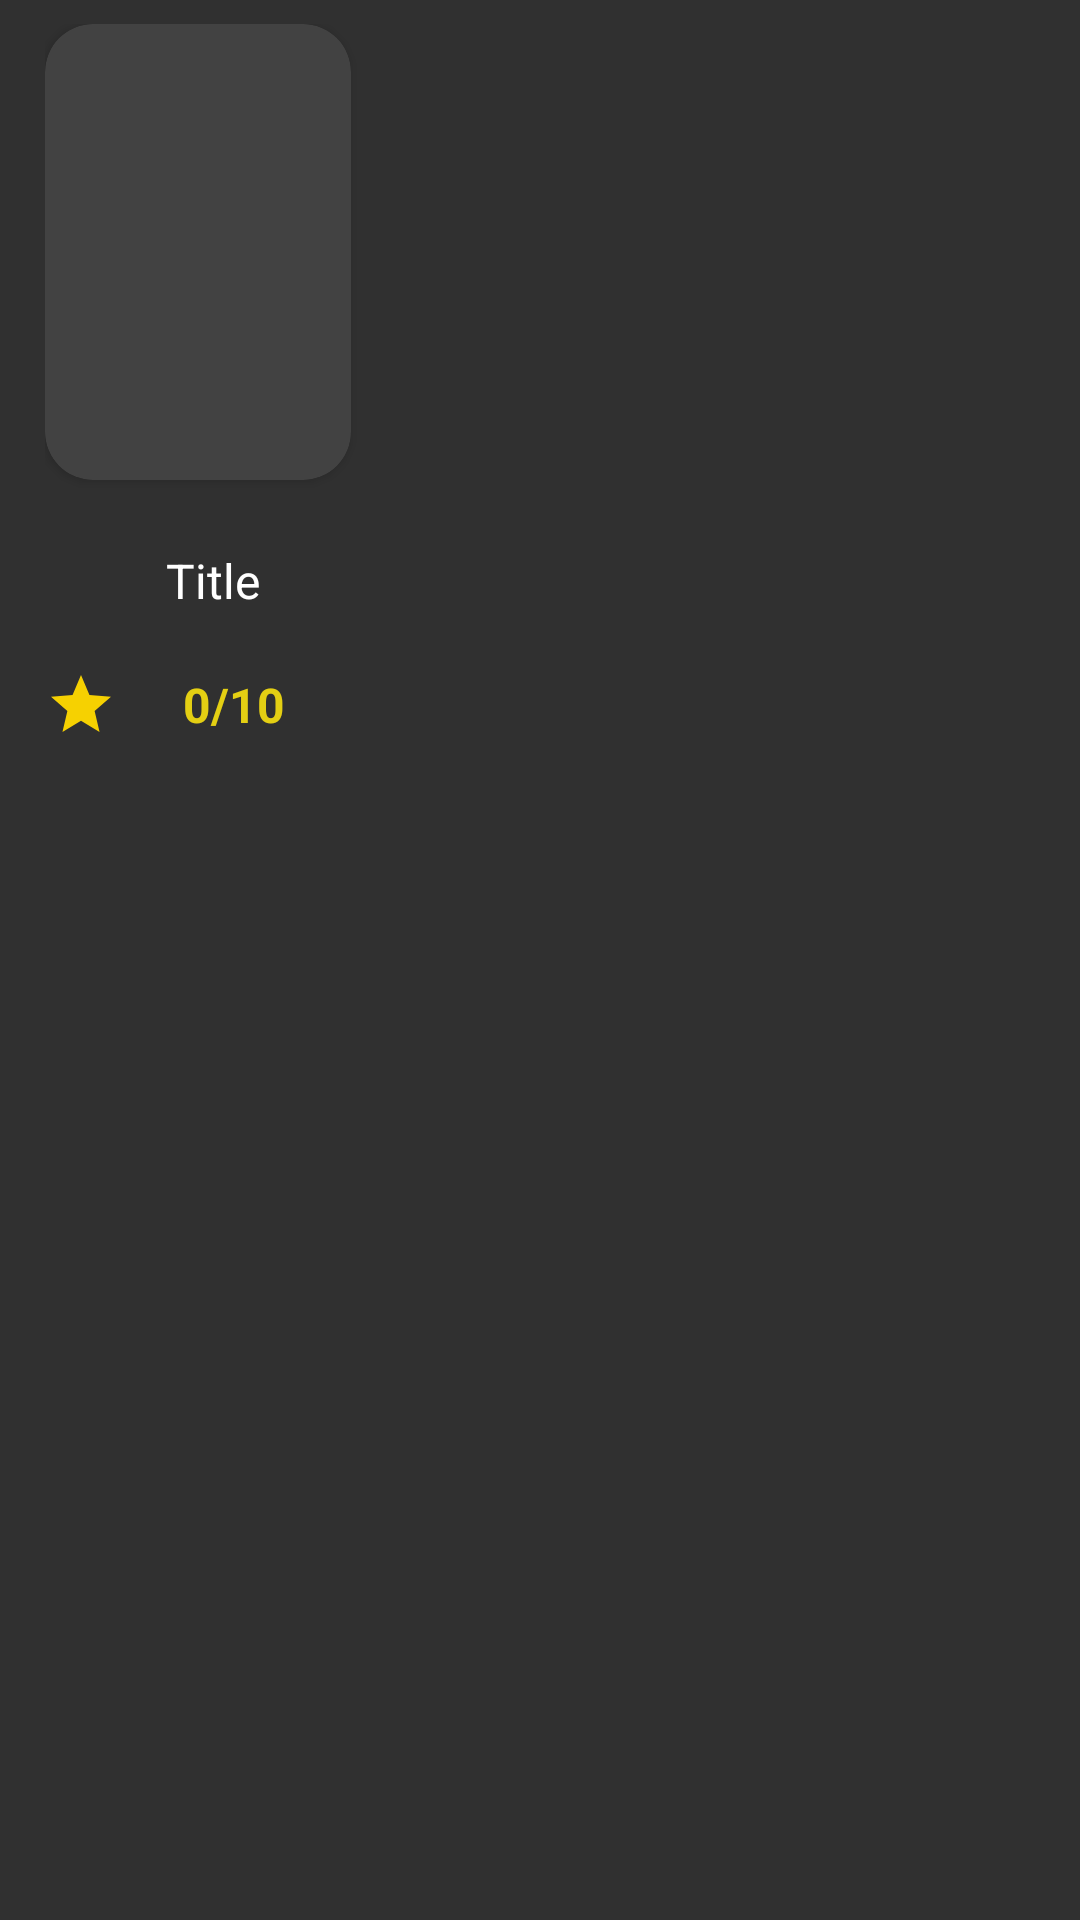

Icons on this 1080x1920 Android screen, each with its box as (x1, y1, x2, y2):
star: (51, 675, 111, 732)
